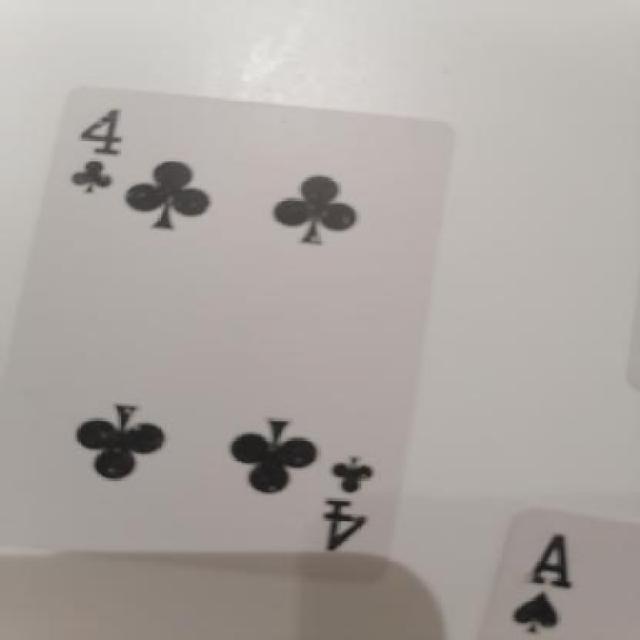4C: (38, 100, 151, 206)
